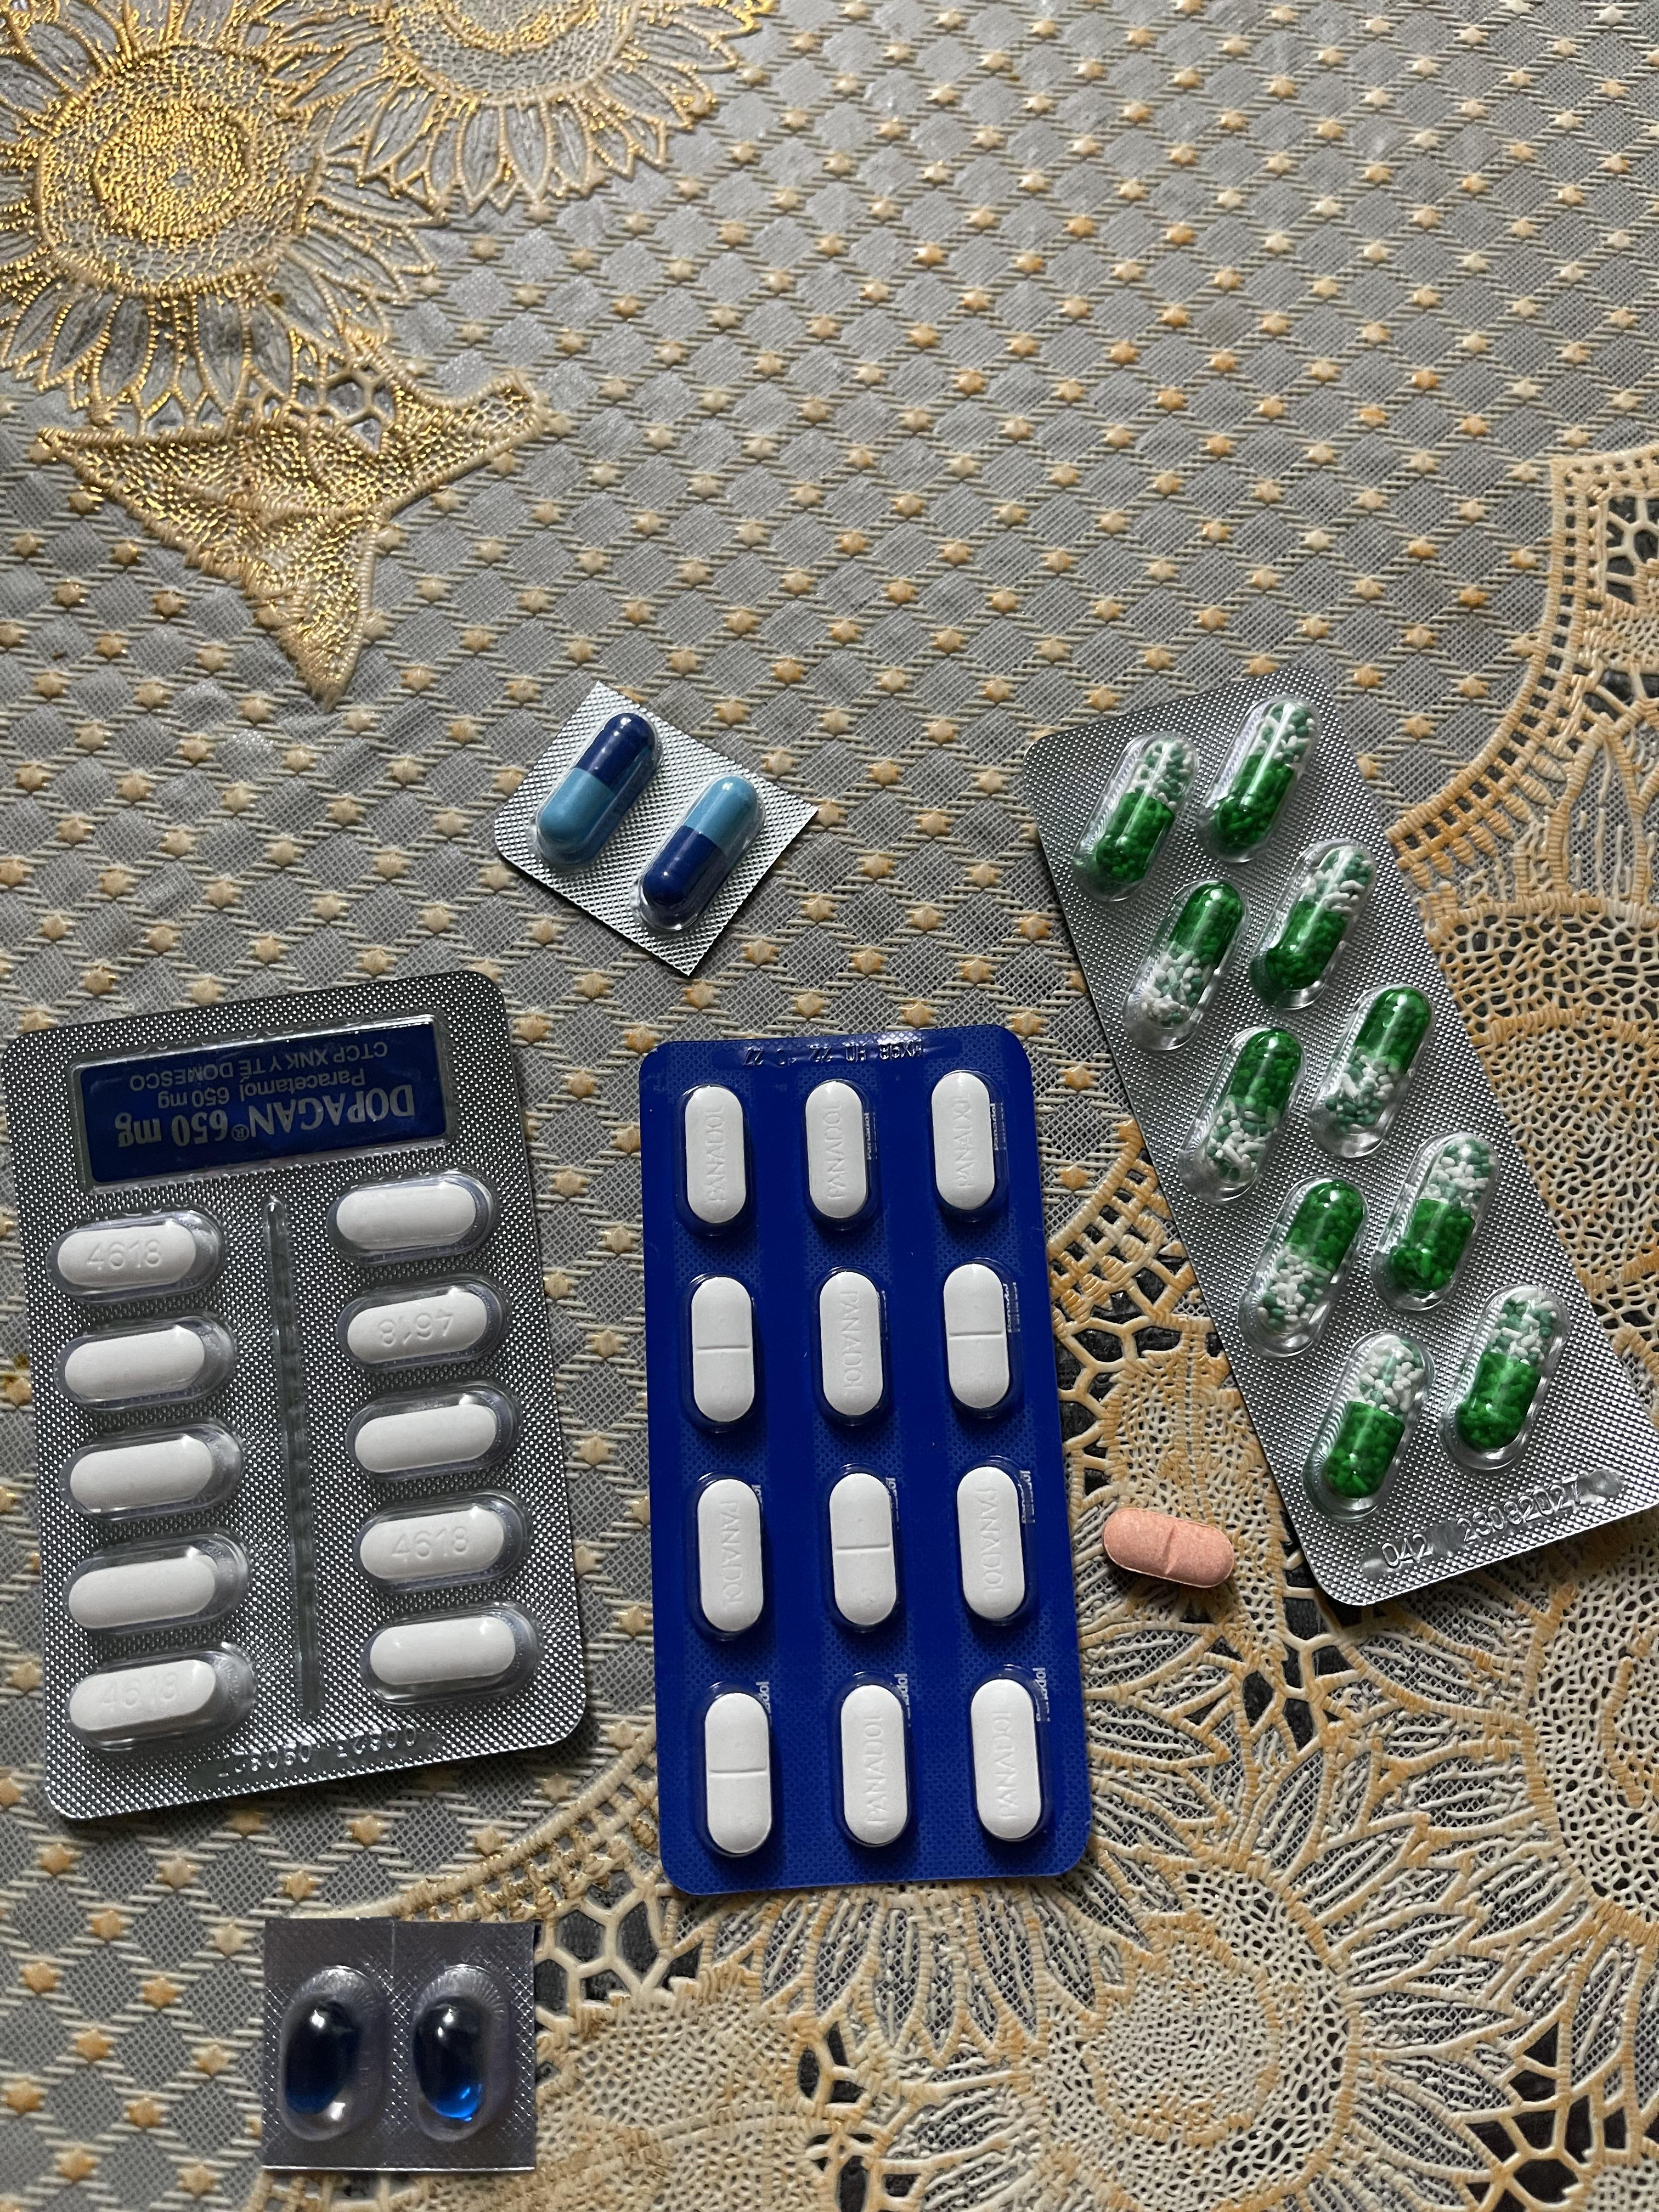Lincomyxin_500mg: (282, 1998, 366, 2121), (411, 1998, 490, 2121)
Loratadine_10mg: (1107, 1505, 1232, 1588)
Paracetamol_350mg: (957, 1465, 1032, 1629), (971, 1676, 1044, 1843), (838, 1681, 910, 1850), (704, 1689, 774, 1860), (826, 1472, 899, 1630), (695, 1479, 765, 1639), (943, 1263, 1012, 1414), (817, 1271, 885, 1425), (690, 1278, 756, 1428), (931, 1071, 999, 1216), (805, 1083, 871, 1224), (683, 1087, 748, 1228)
Paracetamol_500mg: (64, 1653, 240, 1747), (63, 1538, 237, 1632), (354, 1494, 525, 1588), (342, 1280, 507, 1374), (64, 1430, 234, 1517), (328, 1172, 495, 1259), (59, 1320, 228, 1406), (366, 1609, 528, 1693), (352, 1393, 505, 1479), (54, 1216, 211, 1294)
Paracetamol_650mg: (1371, 1134, 1504, 1306), (1237, 1174, 1366, 1346), (1244, 845, 1380, 1007), (1178, 1033, 1307, 1195), (1314, 986, 1443, 1144), (1121, 880, 1243, 1043), (1079, 732, 1190, 892), (1317, 1339, 1424, 1493), (1457, 1296, 1560, 1449), (1211, 705, 1316, 853)
pill: (638, 773, 763, 932), (533, 709, 659, 866)
